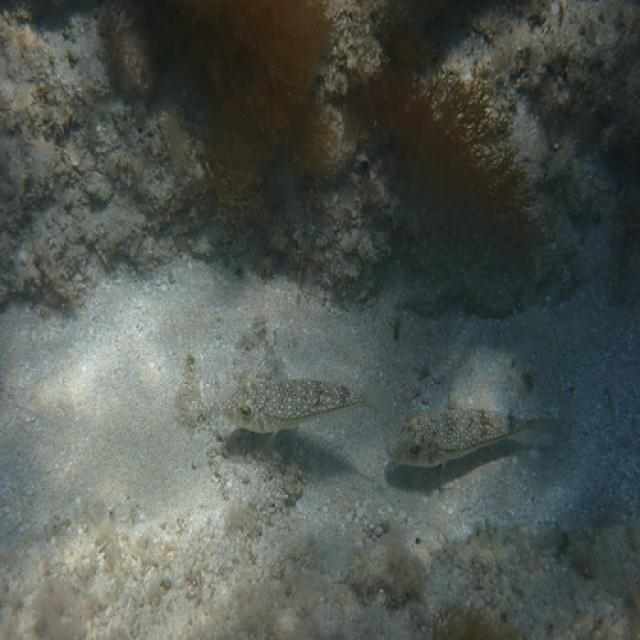Balik: (387, 408, 537, 467), (223, 379, 363, 433)
